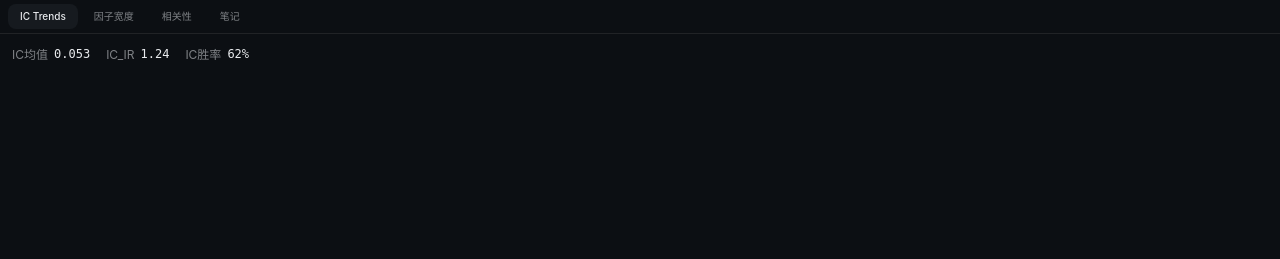
it: AnalysisBand › switches to 相关性 tab and renders 5x5 heatmap grid
Click the tab "相关性". click: (177, 17)
box: [150,4,204,29]
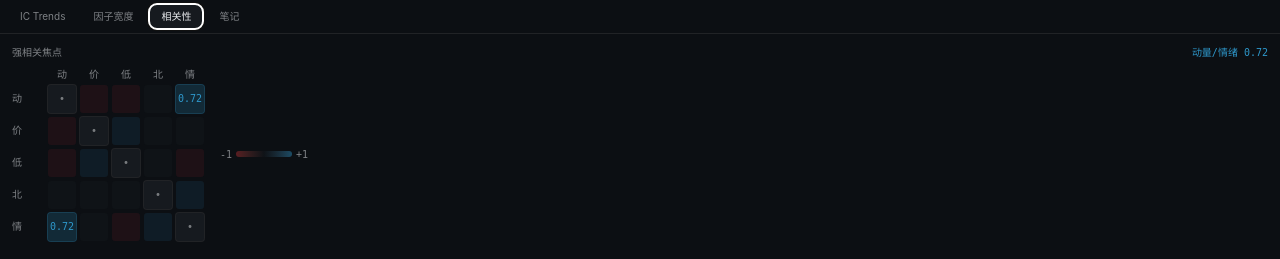
Check: the number of pictures is 25
